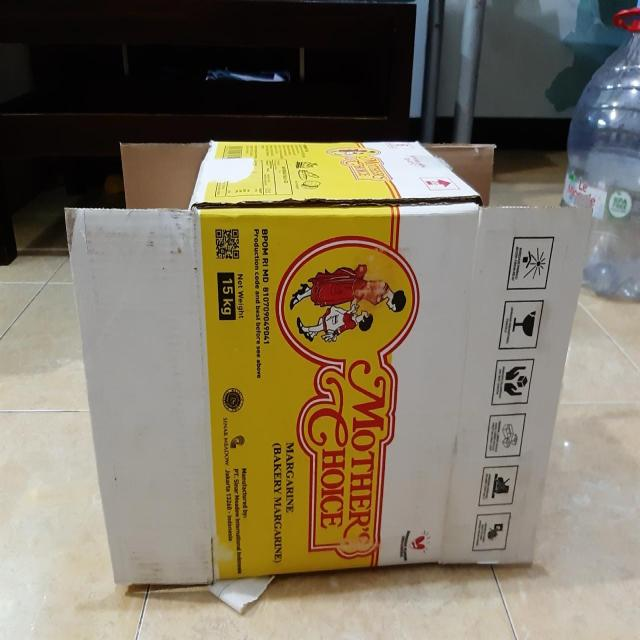Kardus: (64, 139, 594, 589), (288, 262, 406, 313), (295, 300, 373, 344)
